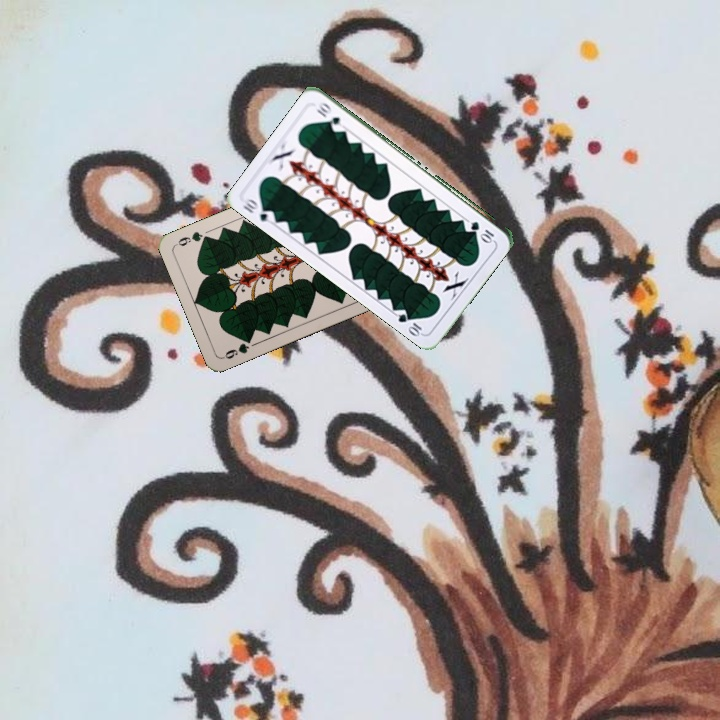G10: (239, 195, 278, 226), (467, 217, 497, 244)
G9: (219, 333, 255, 362)
